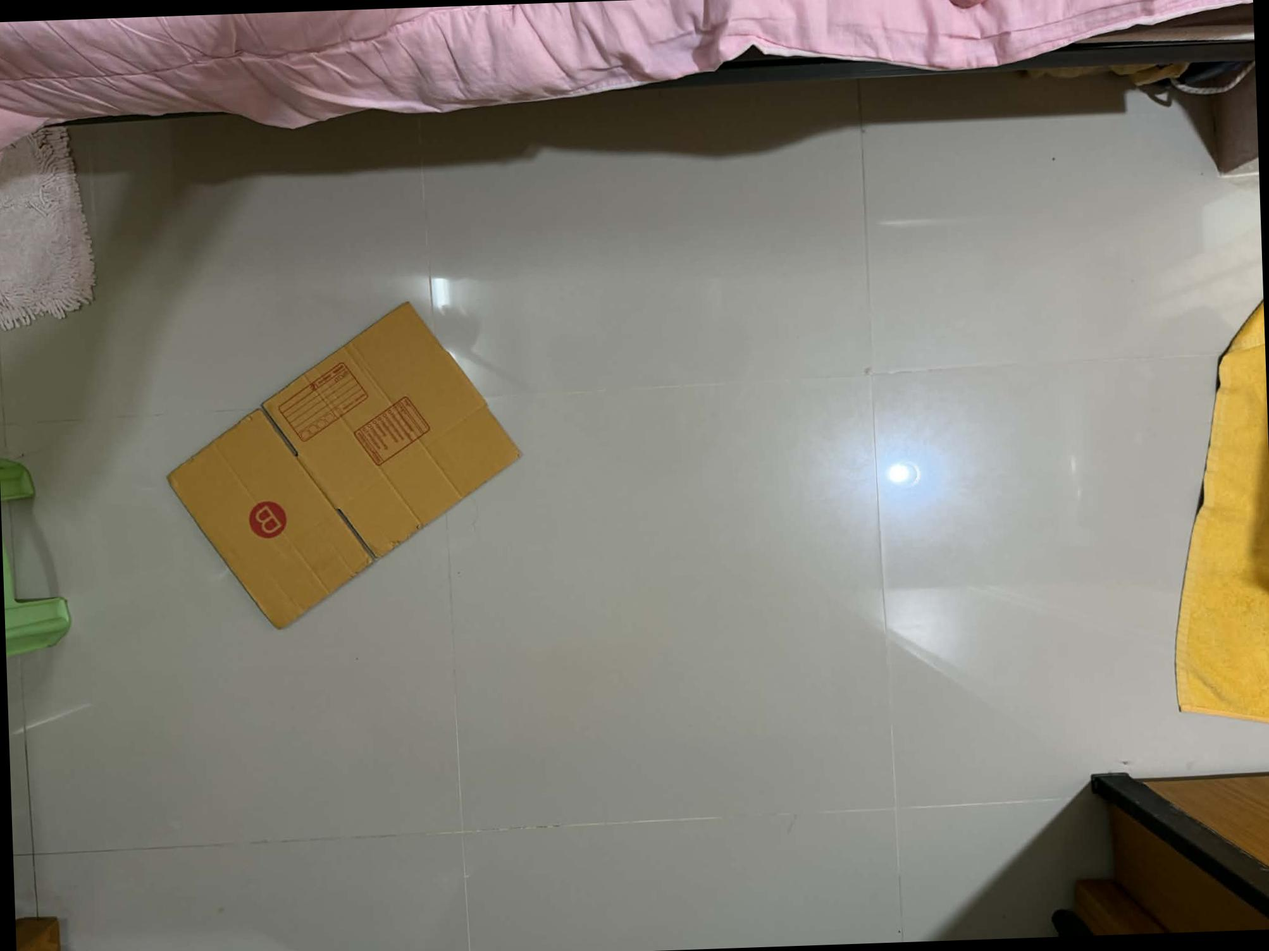box: (270, 364, 368, 440), (346, 388, 432, 473), (246, 500, 292, 541)
class0: (148, 289, 540, 655)
